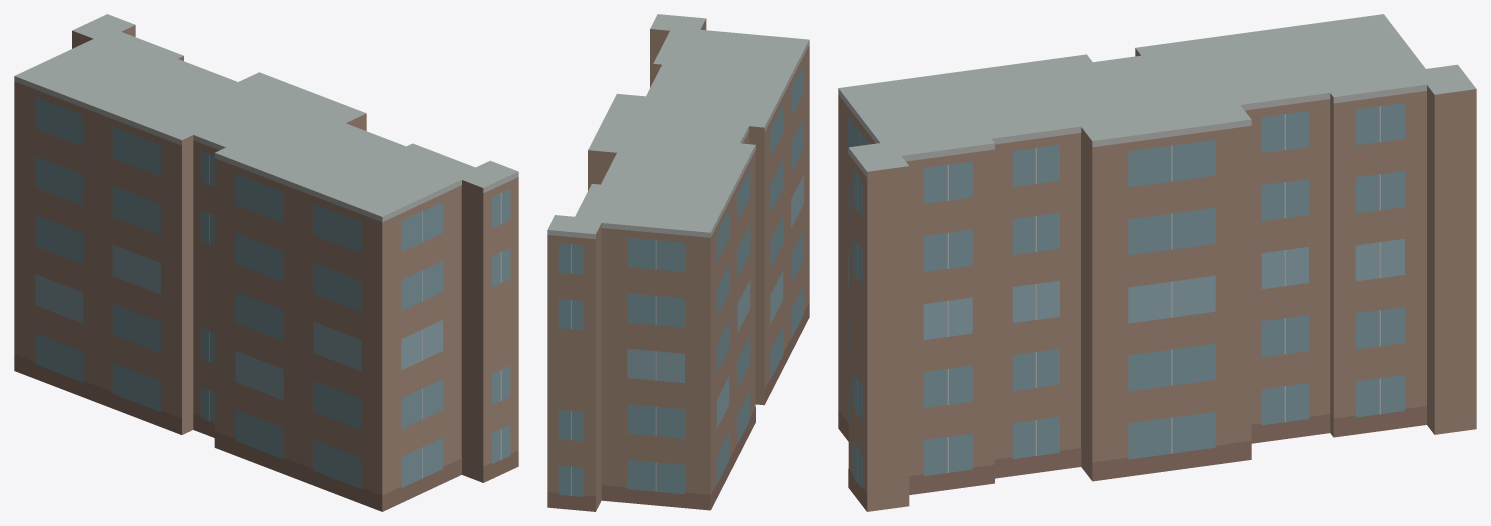
Rendered from survey-upis-32612491.glb.
The picture shows the model from 3 angles, left to right: view 1: azimuth 30°, elevation 25°; view 2: azimuth 150°, elevation 25°; view 3: azimuth 270°, elevation 25°; orthographic projection. The views are drawn at different scales.
Parts seen in each view (by area): view 1: survey-upis-32612491.tmp; view 2: survey-upis-32612491.tmp; view 3: survey-upis-32612491.tmp.
Part boxes in pixels (<box>): survey-upis-32612491.tmp: <box>14,14,518,511</box>; survey-upis-32612491.tmp: <box>547,14,809,511</box>; survey-upis-32612491.tmp: <box>838,14,1476,511</box>.
Size of the model in its own units: 13.39 by 13.45 by 22.89.
